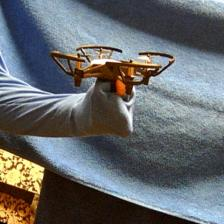drone: (49, 42, 177, 94)
